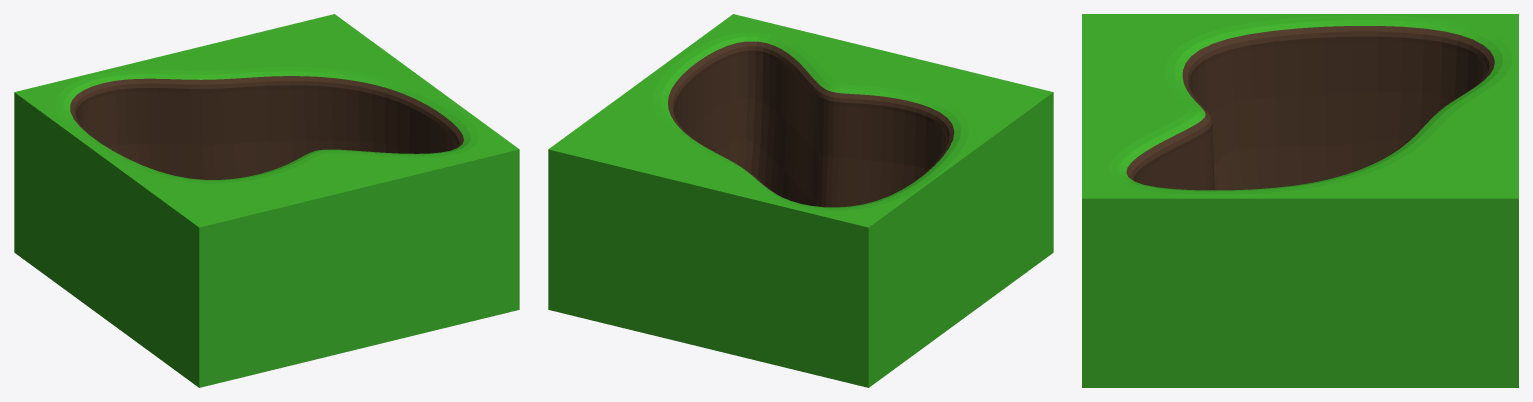
The model's file is Lake.fbx.
3 renders of one model, left to right at view 1: azimuth 30°, elevation 25°; view 2: azimuth 150°, elevation 25°; view 3: azimuth 270°, elevation 25°, orthographic. The views are drawn at different scales.
Visible parts, largest first — view 1: Cube; view 2: Cube; view 3: Cube.
Boxes of the visible parts, box(x1,y1,x2,y2) form: Cube: box(14, 14, 519, 387); Cube: box(548, 14, 1053, 387); Cube: box(1082, 14, 1518, 387).
Bounding box in the file's own units: 4470 × 2138 × 4470.
